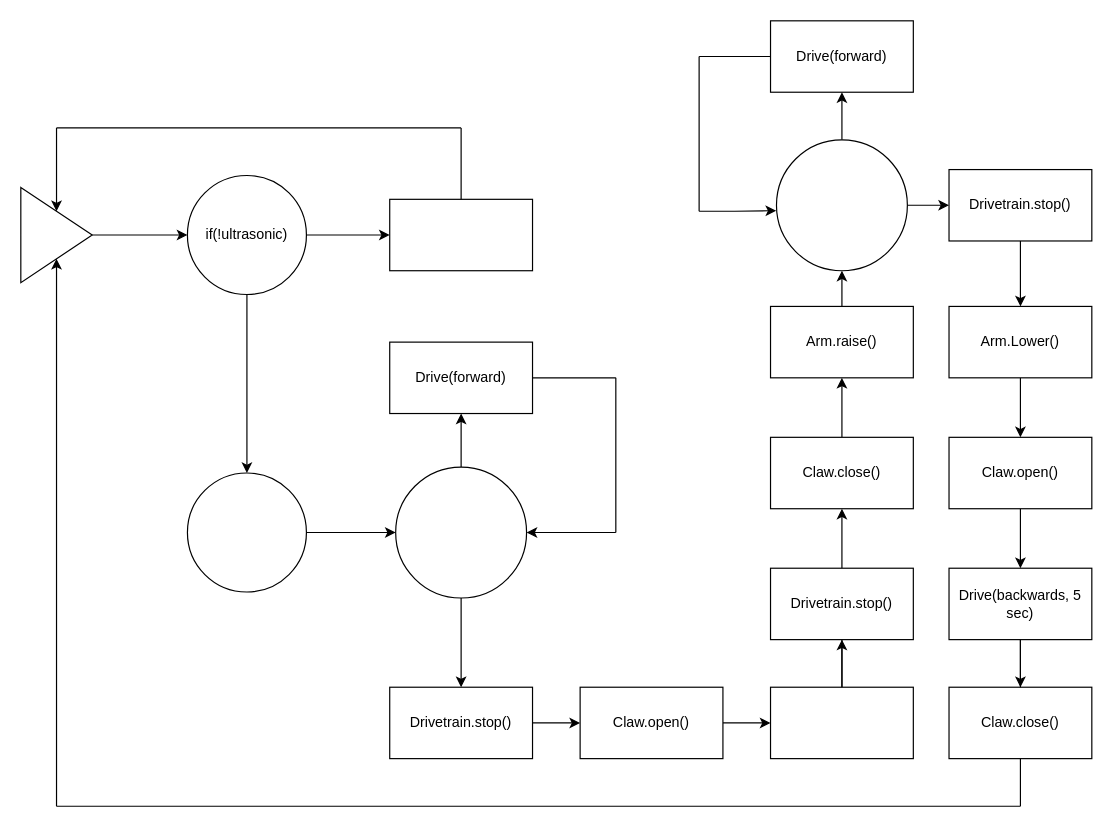
The diagram is 1113 pixels wide and 837 high, and some of its shapes have lost their labels. The shapes that lost their labels are listed below. From the top down, each one's centre as x and y in pixels, then its label:
(x=841, y=205): while(linesensor = notTape)
(x=56, y=234): Start
(x=461, y=234): Drivetrain.spin()
(x=246, y=532): else
(x=460, y=532): while(ultrasonic > 10)
(x=841, y=722): Drive(forward, 1 sec)
